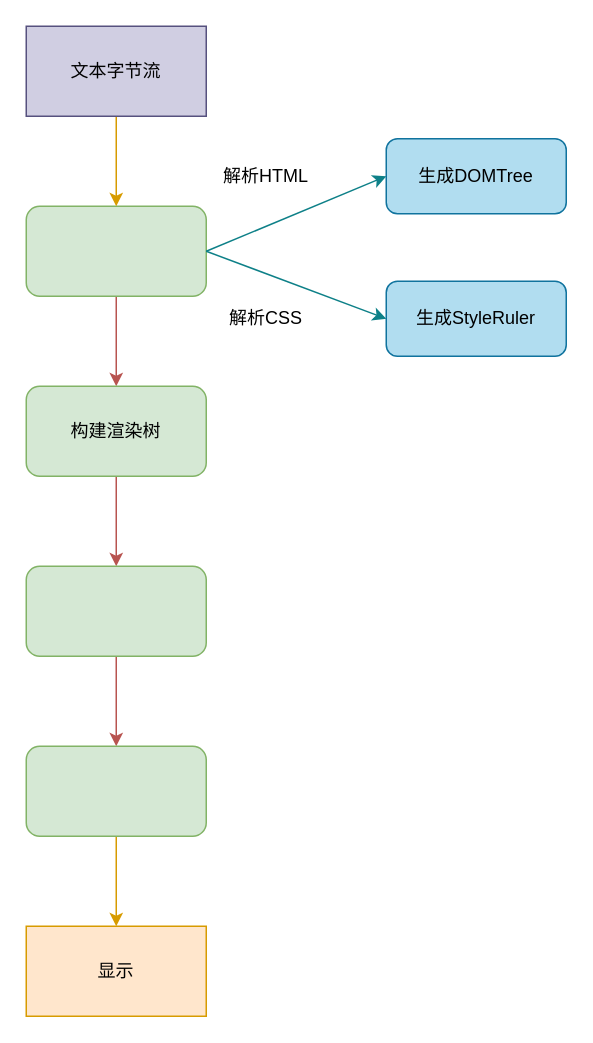
The diagram is 593 pixels wide and 1043 high, and some of its shapes have lost their labels. Each missing label, with the centre of its shape:
渲染布局运算: (115,610)
绘制渲染树: (115,790)
解析文本字节: (115,250)
